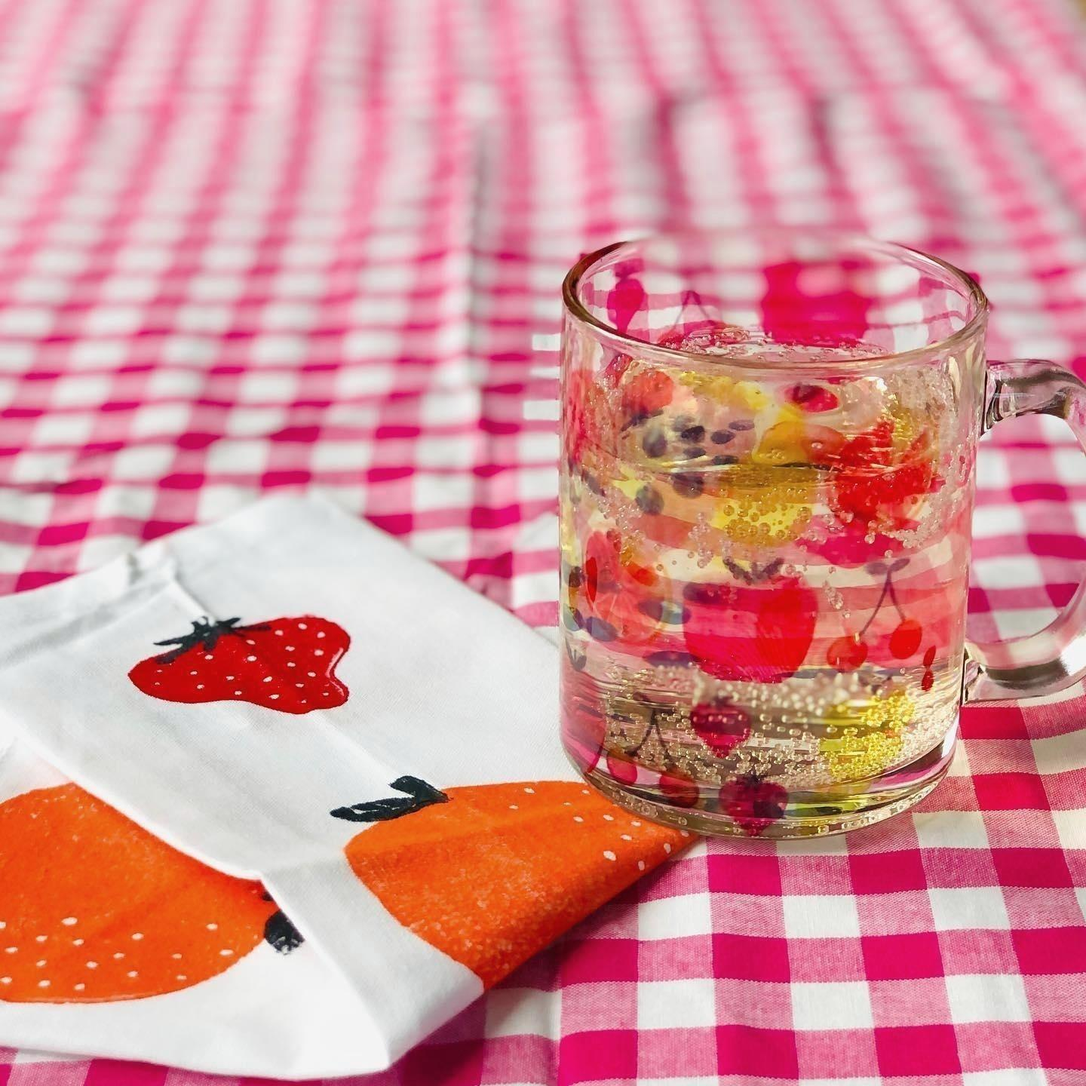glass-mug: (532, 212, 1086, 856)
